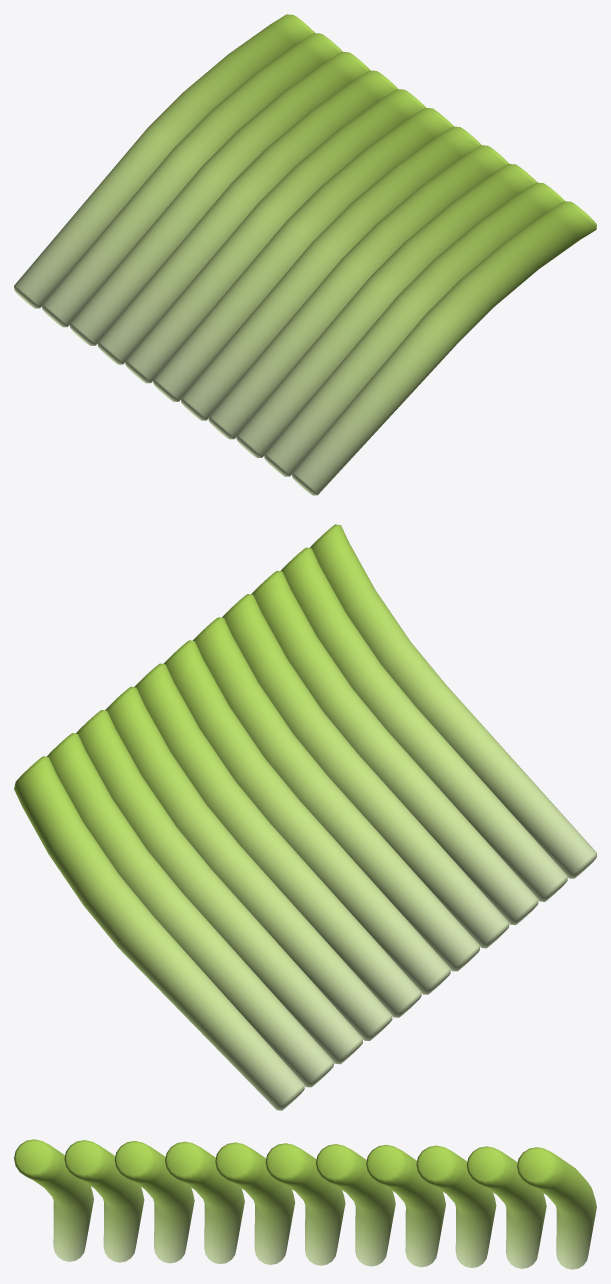
Rendered from food-skewer-6.glb.
3 views of the same model, one above another, from view 1: azimuth 30°, elevation 25°; view 2: azimuth 150°, elevation 25°; view 3: azimuth 270°, elevation 25° (orthographic). The views are drawn at different scales.
Visible parts, largest first — view 1: Object_61; view 2: Object_61; view 3: Object_61.
Boxes of the visible parts, x1,y1,x2,y2 form: Object_61: (14, 14, 596, 495); Object_61: (14, 524, 596, 1110); Object_61: (14, 1139, 596, 1269).
Bounding box in the file's own units: 0.3414 × 0.2971 × 0.658.
Materials: 1 (1 with a texture image).
